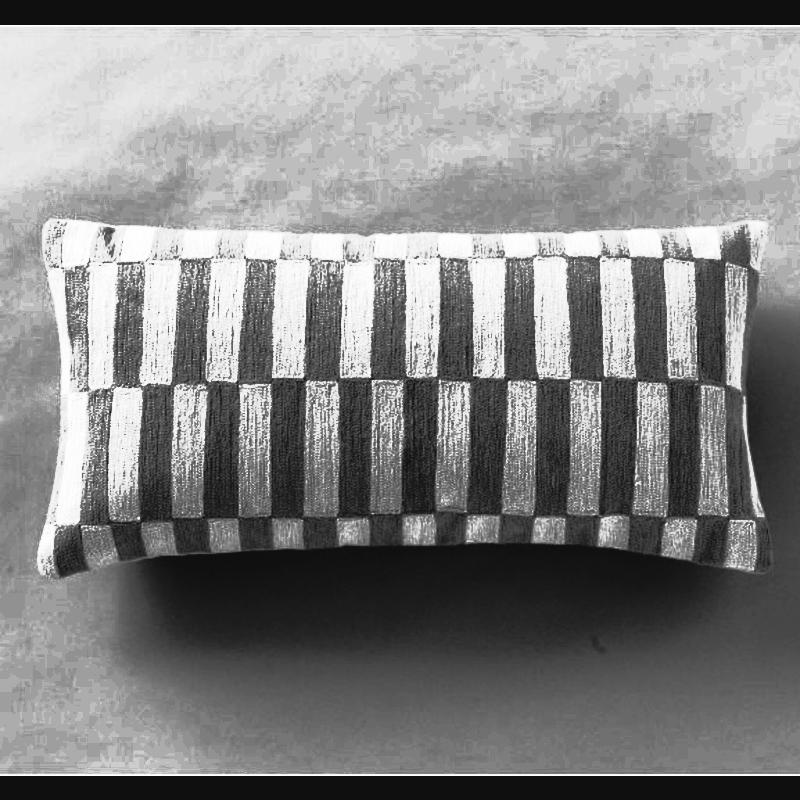pillow: (40, 220, 768, 570)
